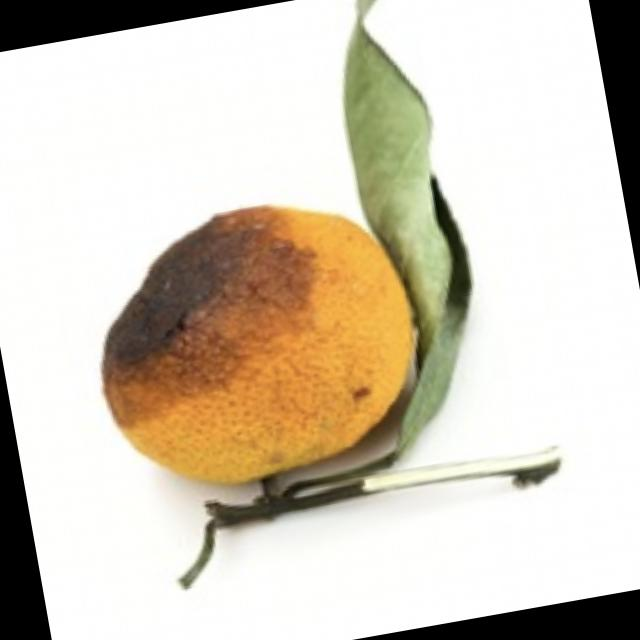rotten-orange: (75, 182, 442, 504)
